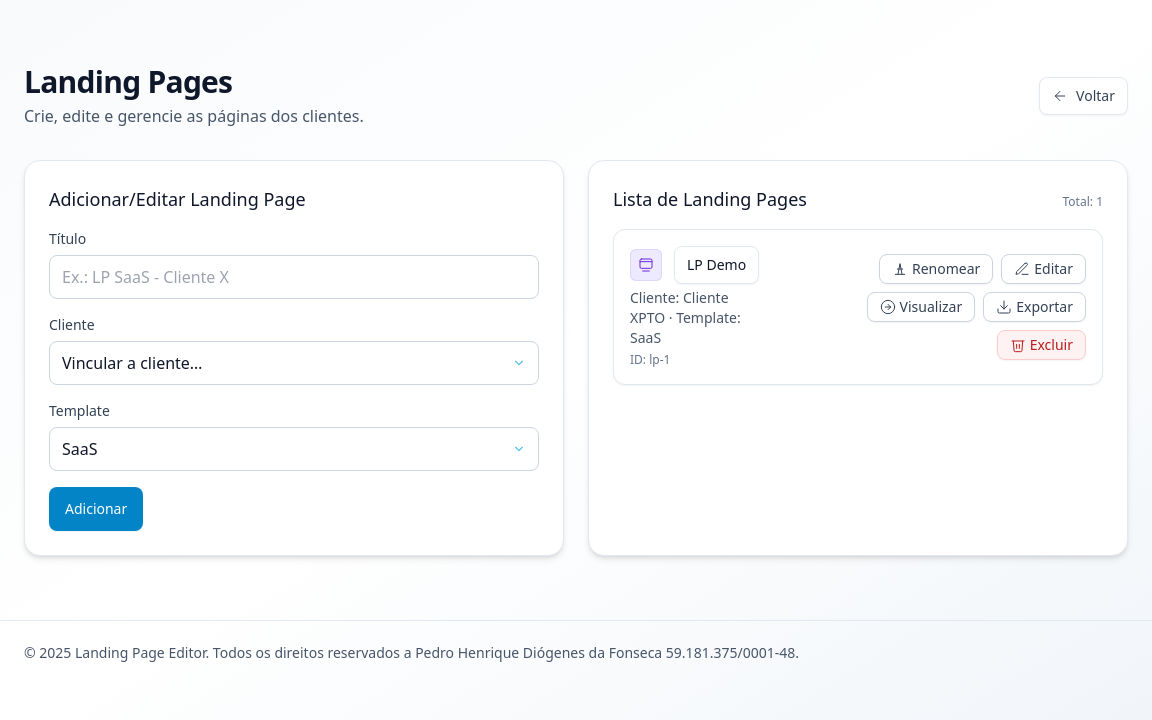
Test: LandingPagesPage (integration) › permite excluir uma landing page existente
expect the text "LP Demo" is shown: met, box x1=687 y1=255 x2=746 y2=275
What coordinates should you click on to do the following:
click the button "Excluir"
I would click on:
 (1041, 345)
Its box is x1=997 y1=330 x2=1086 y2=360.
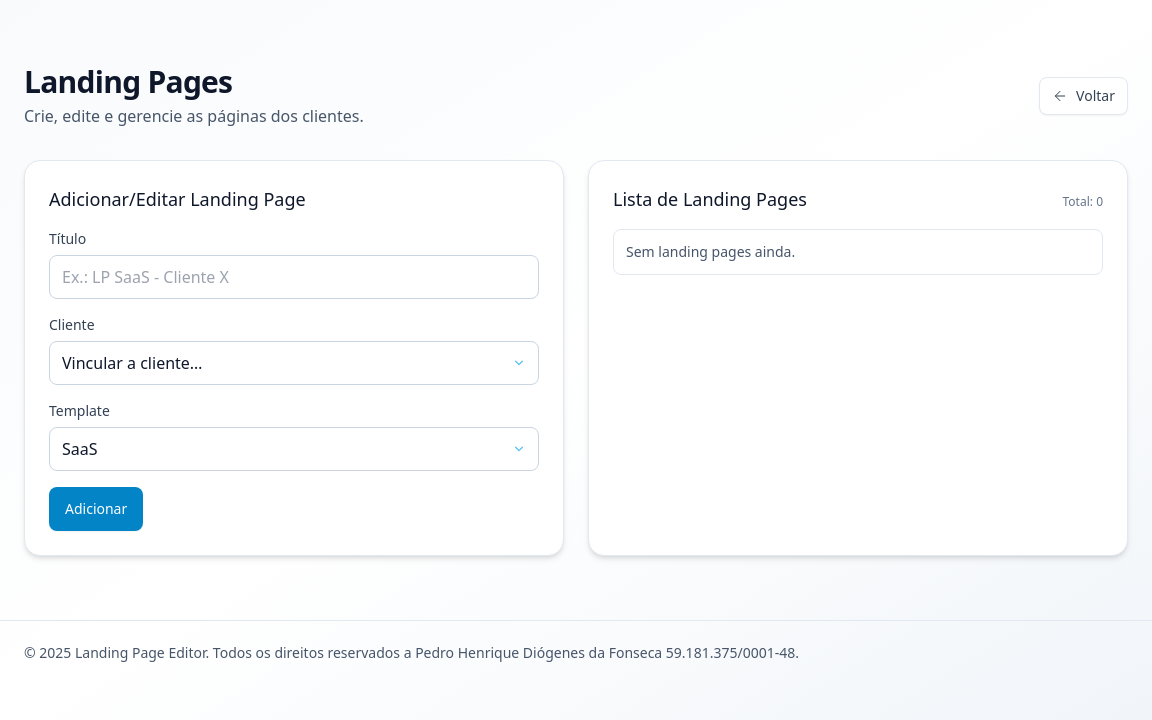
expect the text "Sem landing pages ainda." is shown: met, box x1=613 y1=229 x2=1103 y2=275
